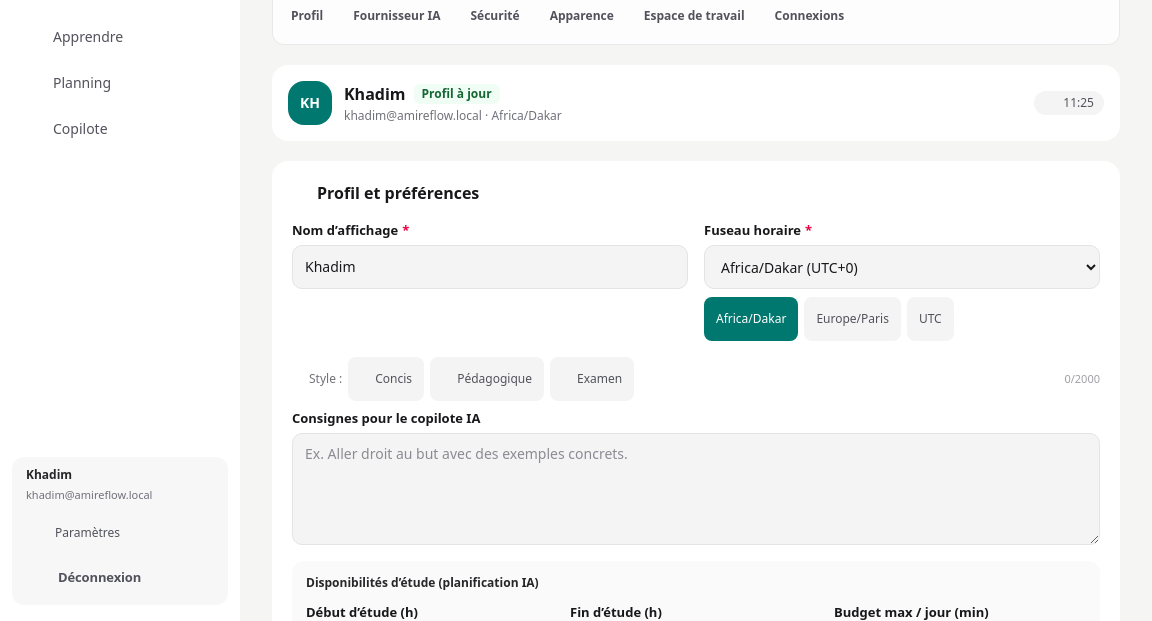
Intégration API FastAPI & Authentification (Lot 5) › met à jour le profil et le fuseau horaire depuis Paramètres (AUTH-03)
The image size is (1152, 621).
Replace the text in the field labelled "Nom d’affichage*" with "Khadim Dev" at (490, 267), box [292,245,688,289]
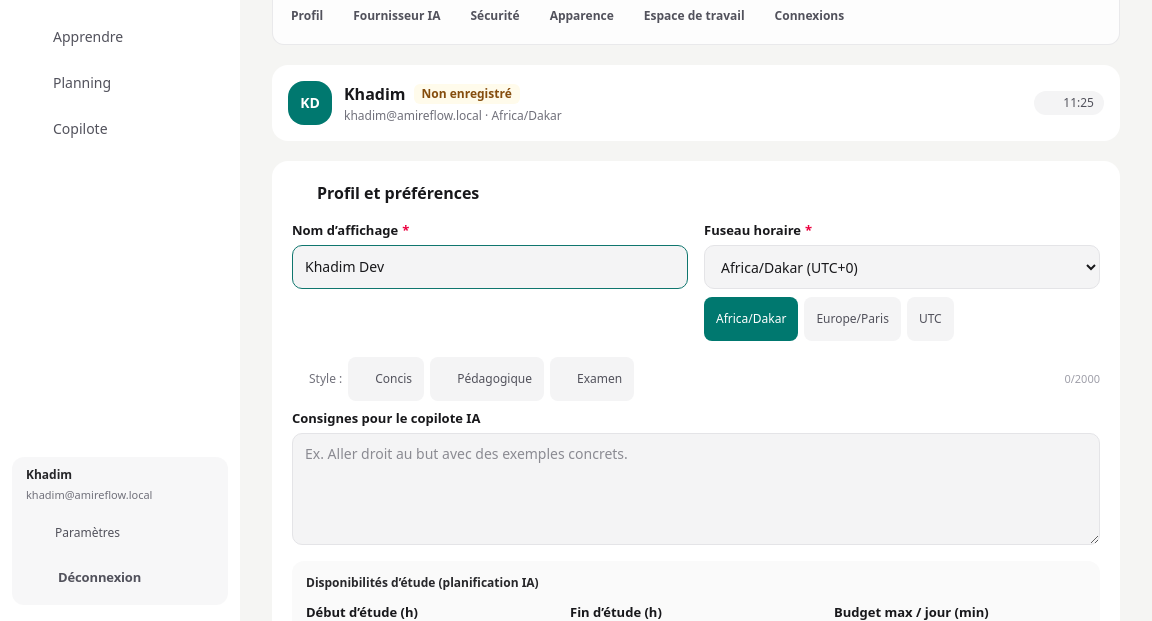
Select "Europe/Paris (UTC+1 / UTC+2)" in the dropdown labelled "Fuseau horaire*" at (902, 267), box [704,245,1100,289]
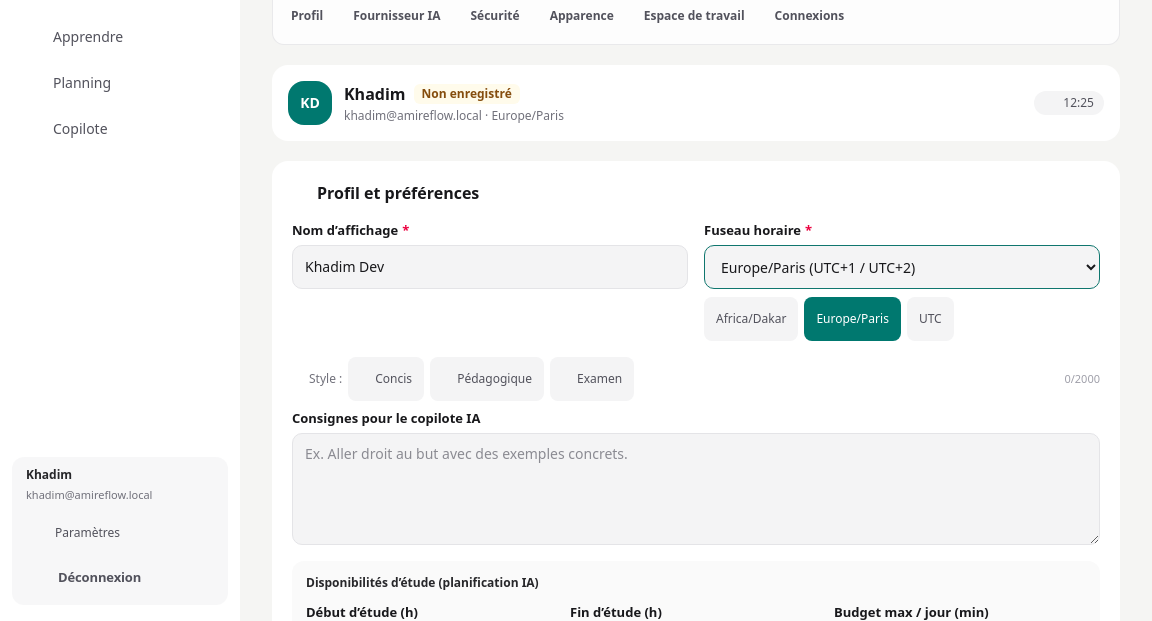
Type "Aller droit au but." into the text box labelled "Consignes pour le copilote IA".
click(696, 489); type("Aller droit au but.")  # box [292,433,1100,545]
(page scrolled)
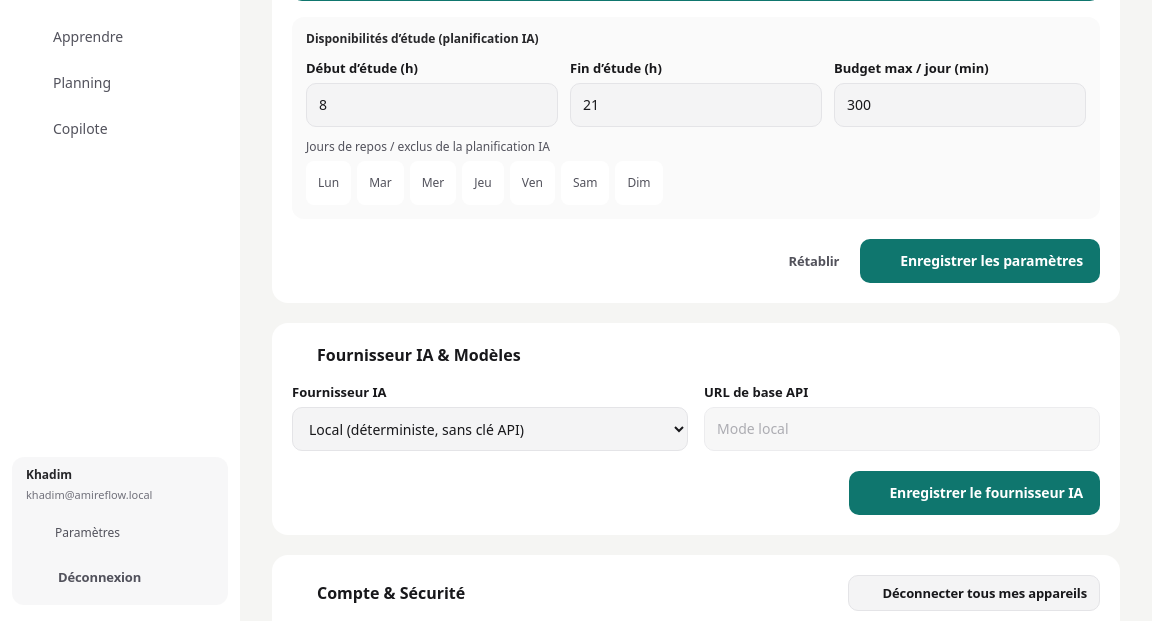
Click the button "Enregistrer les paramètres".
click(980, 261)  # box [860,239,1100,283]
(page scrolled)
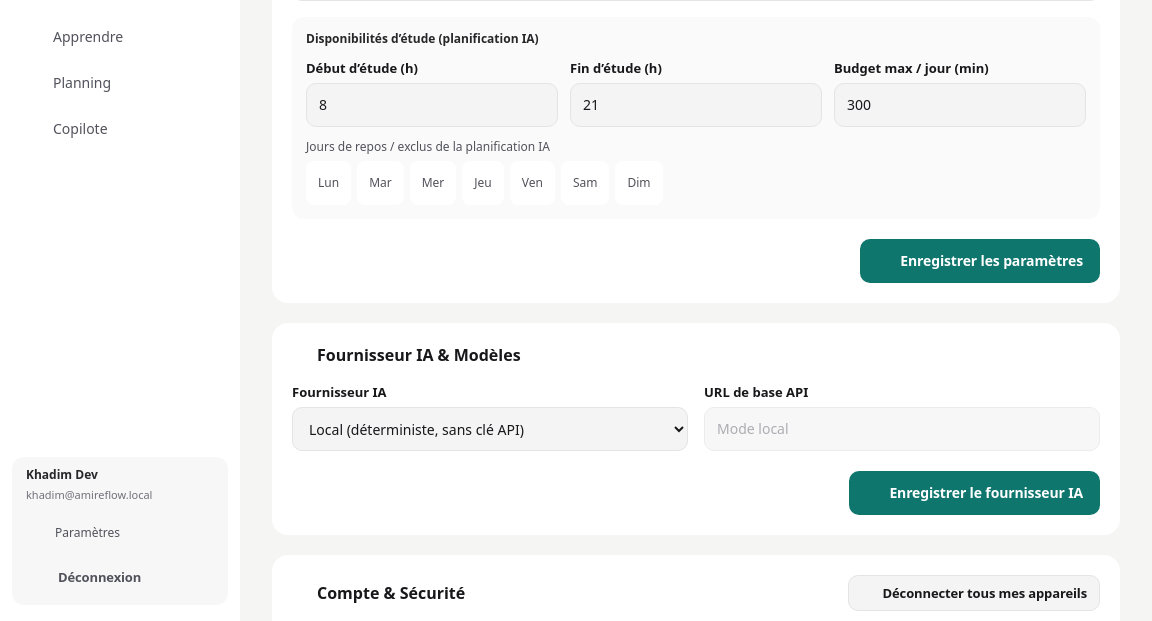
Now the text "Khadim Dev" is shown, box [26,466,98,483]
